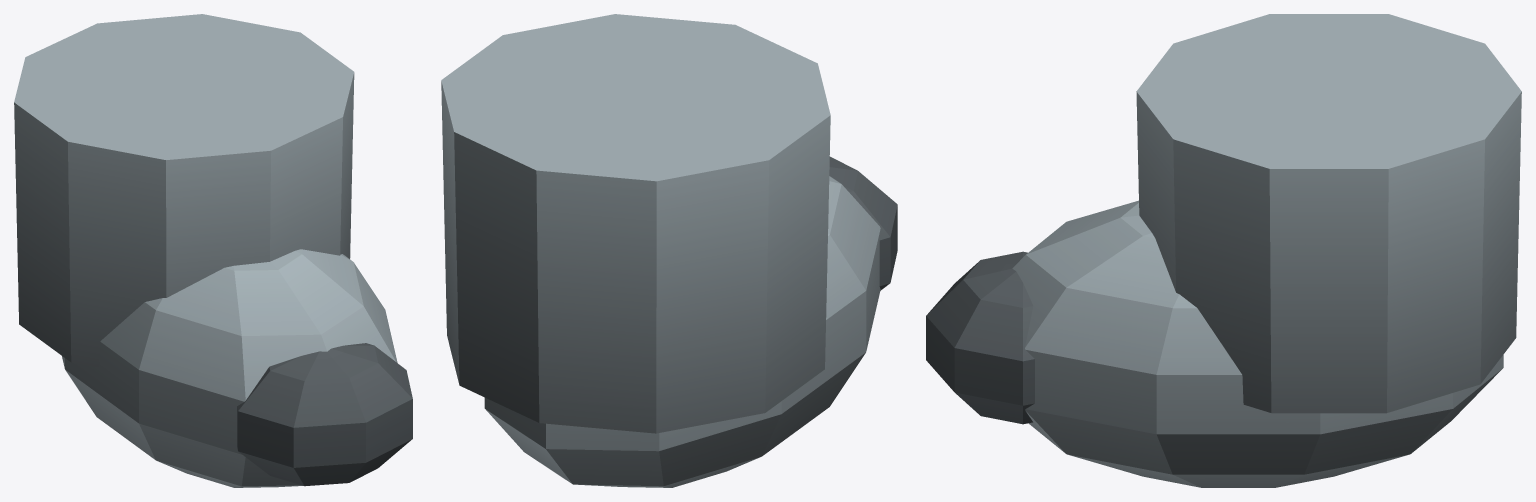
Rendered from iron_boots.glb.
The picture shows the model from 3 angles, left to right: view 1: azimuth 30°, elevation 25°; view 2: azimuth 150°, elevation 25°; view 3: azimuth 270°, elevation 25°; orthographic projection. The views are drawn at different scales.
Visible parts, largest first — view 1: iron_boots; view 2: iron_boots; view 3: iron_boots.
Boxes of the visible parts, box(x1,y1,x2,y2) form: iron_boots: box(14, 14, 412, 487); iron_boots: box(441, 14, 897, 487); iron_boots: box(926, 14, 1521, 487).
Bounding box in the file's own units: 0.3234 × 0.37 × 0.5256.
1 material, 1 textured.
